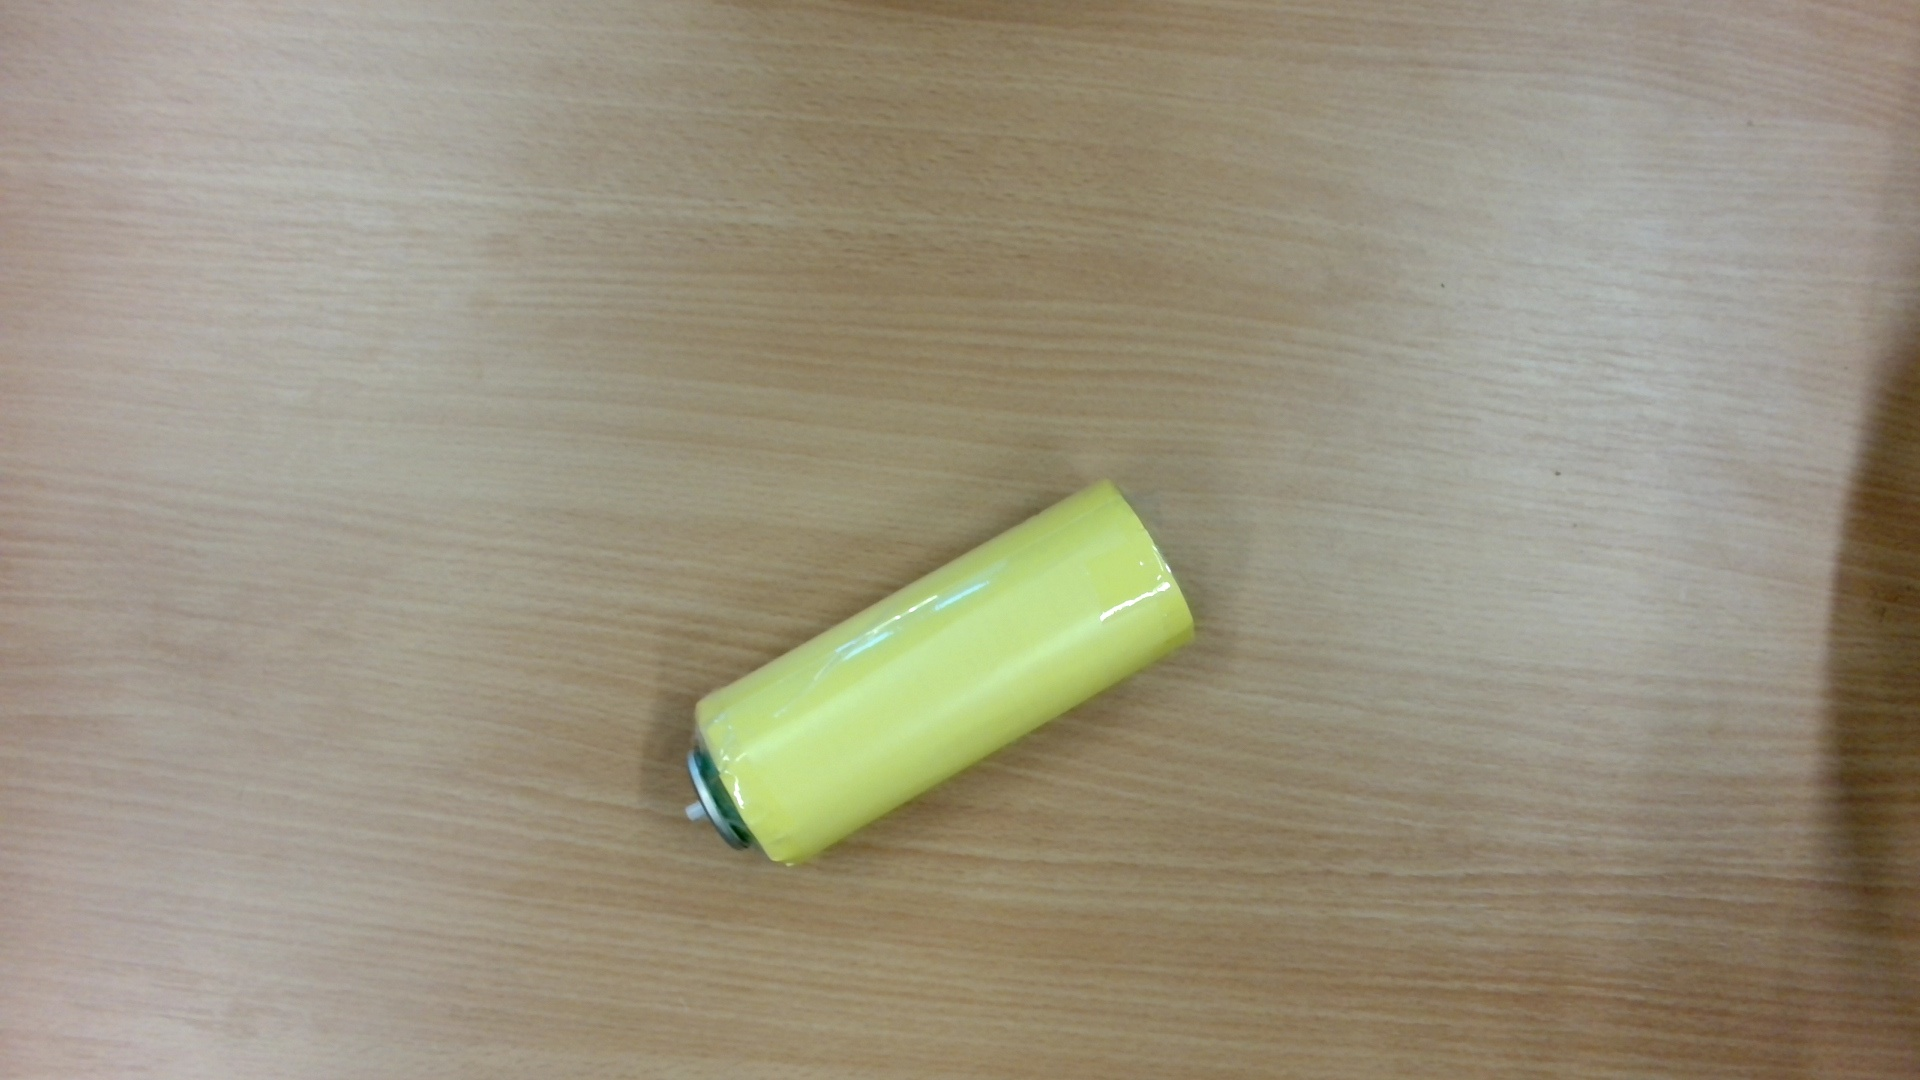Cylinder: (670, 465, 1212, 884)
